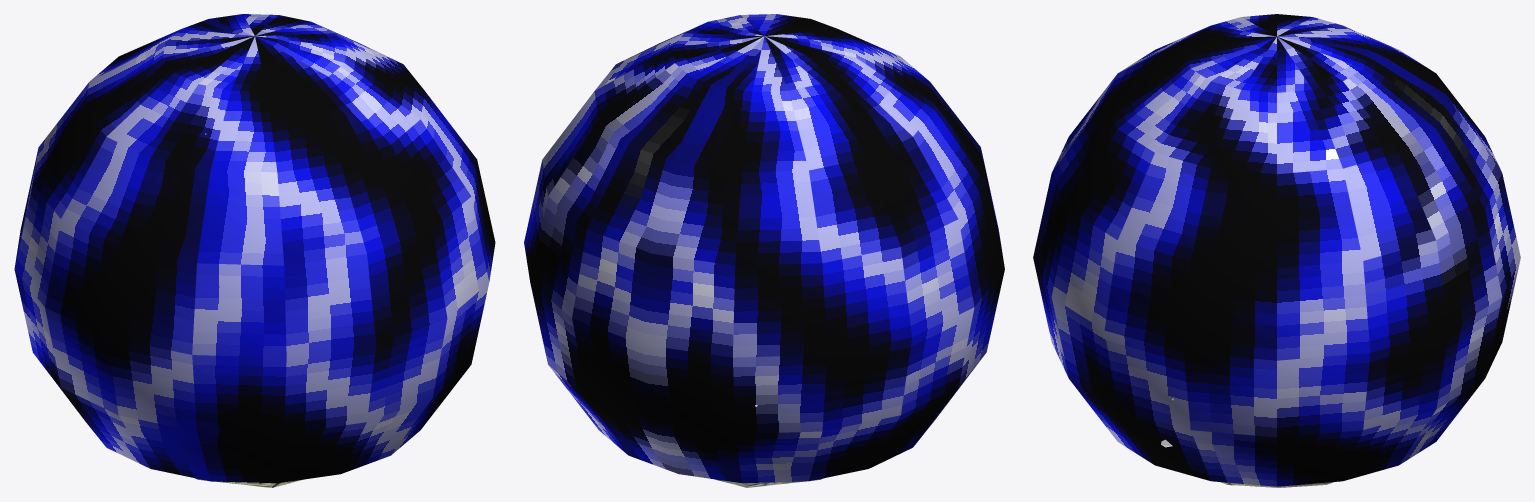
The model's file is Balls.FBX.
The picture shows the model from 3 angles, left to right: view 1: azimuth 30°, elevation 25°; view 2: azimuth 150°, elevation 25°; view 3: azimuth 270°, elevation 25°; orthographic projection.
Parts seen in each view (by area): view 1: Ball_LightningSphere; view 2: Ball_LightningSphere; view 3: Ball_LightningSphere.
Boxes of the visible parts, x1,y1,x2,y2 form: Ball_LightningSphere: (14, 14, 495, 483); Ball_LightningSphere: (524, 14, 1004, 483); Ball_LightningSphere: (1033, 14, 1520, 486).
Bounding box in the file's own units: 4.5 × 4.41 × 4.5.
Materials: 8 (8 with a texture image).
